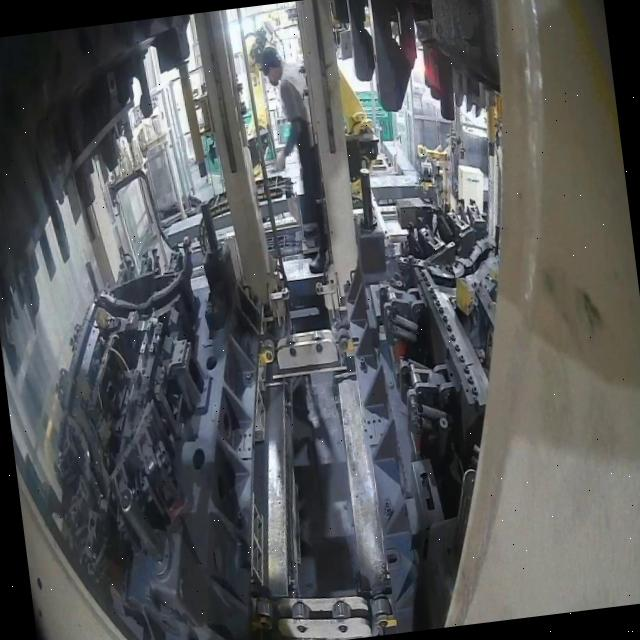Person: (256, 41, 332, 278)
